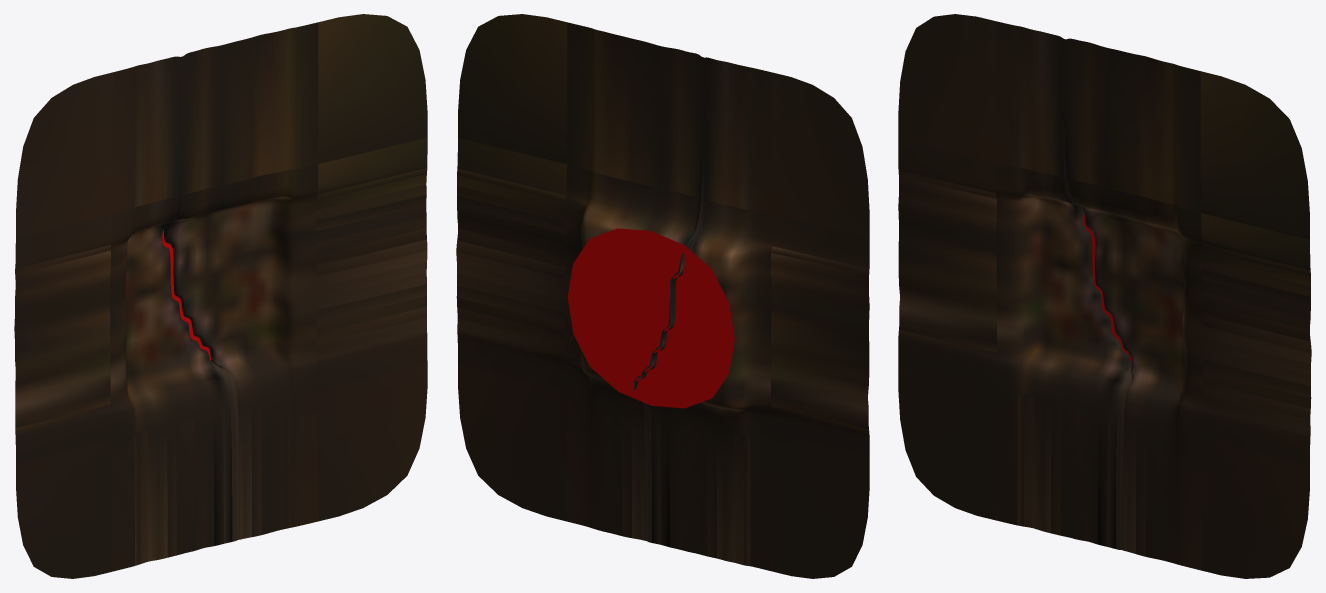
Rendered from pointdread.fbx.
3 renders of one model, left to right at view 1: azimuth 30°, elevation 25°; view 2: azimuth 150°, elevation 25°; view 3: azimuth 330°, elevation 25°, orthographic.
Parts seen in each view (by area): view 1: Cube; view 2: Cube; view 3: Cube.
Boxes of the visible parts, x1,y1,x2,y2 form: Cube: (14, 14, 427, 578); Cube: (456, 14, 869, 578); Cube: (898, 14, 1311, 578).
Bounding box in the file's own units: 120 × 140 × 12.2.
